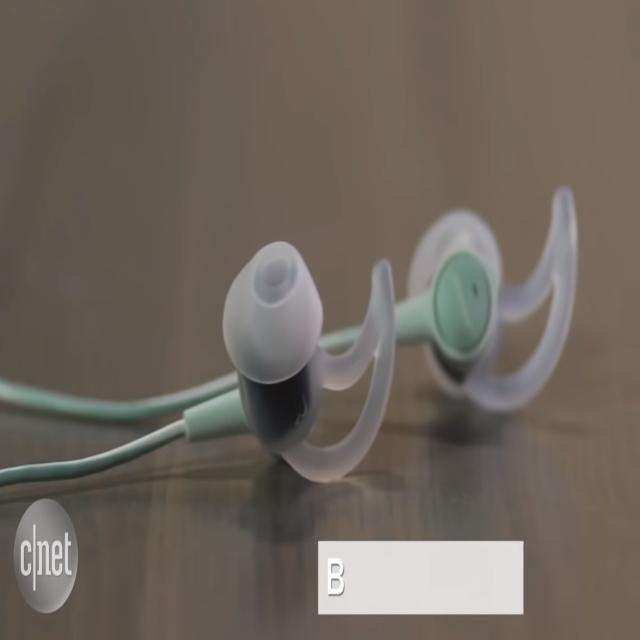Earphone: (1, 186, 578, 487)
